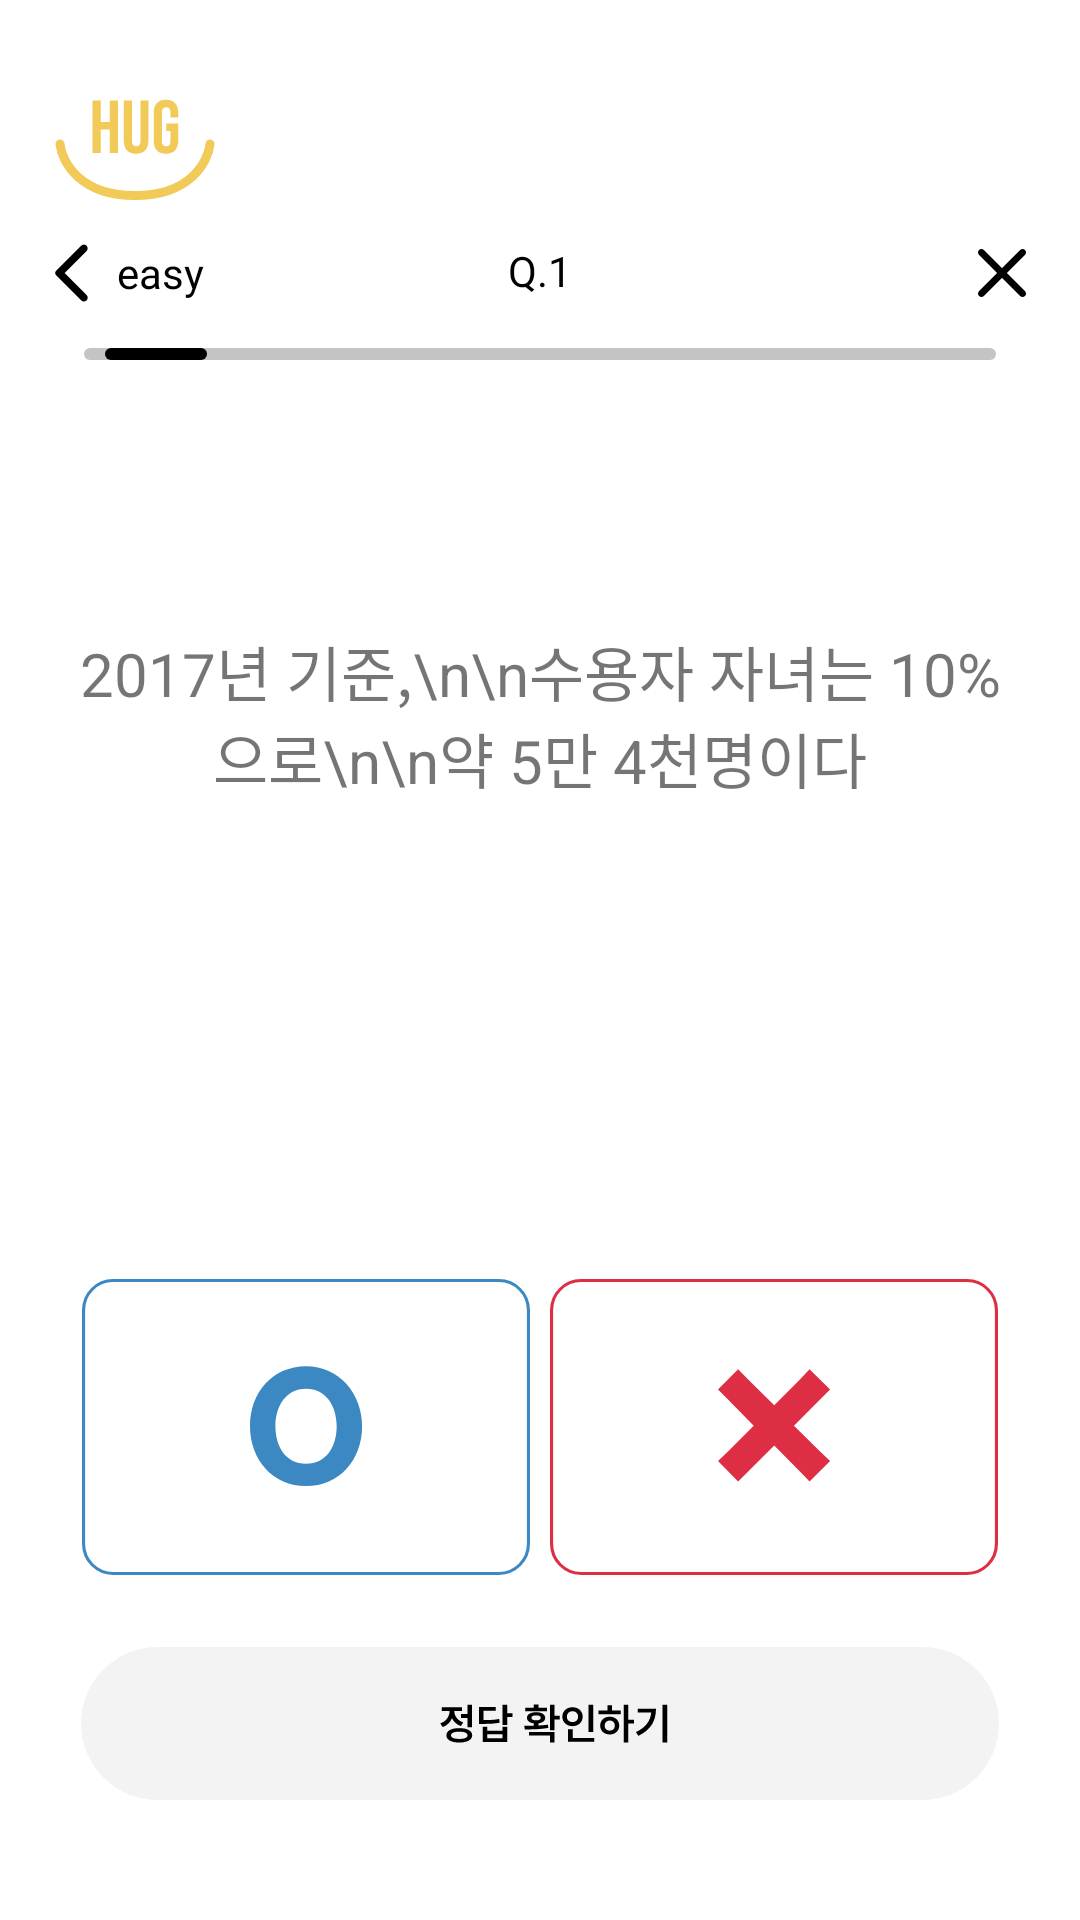

Named icons in this screenshot (1080x1920) and their bounding boxes, (x1, y1, x2, y2):
home quiz out: (978, 249, 1026, 297)
